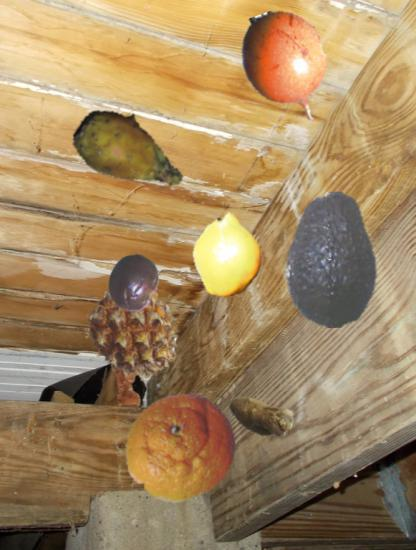Avocado: (263, 192, 400, 329)
Cactus: (70, 93, 190, 213)
Ginger: (227, 382, 294, 449)
Granadilla: (228, 9, 346, 127)
Mandarine: (124, 392, 238, 506)
Passion: (104, 254, 163, 313)
Pineapple: (84, 283, 184, 383)
Quince: (185, 212, 270, 297)
